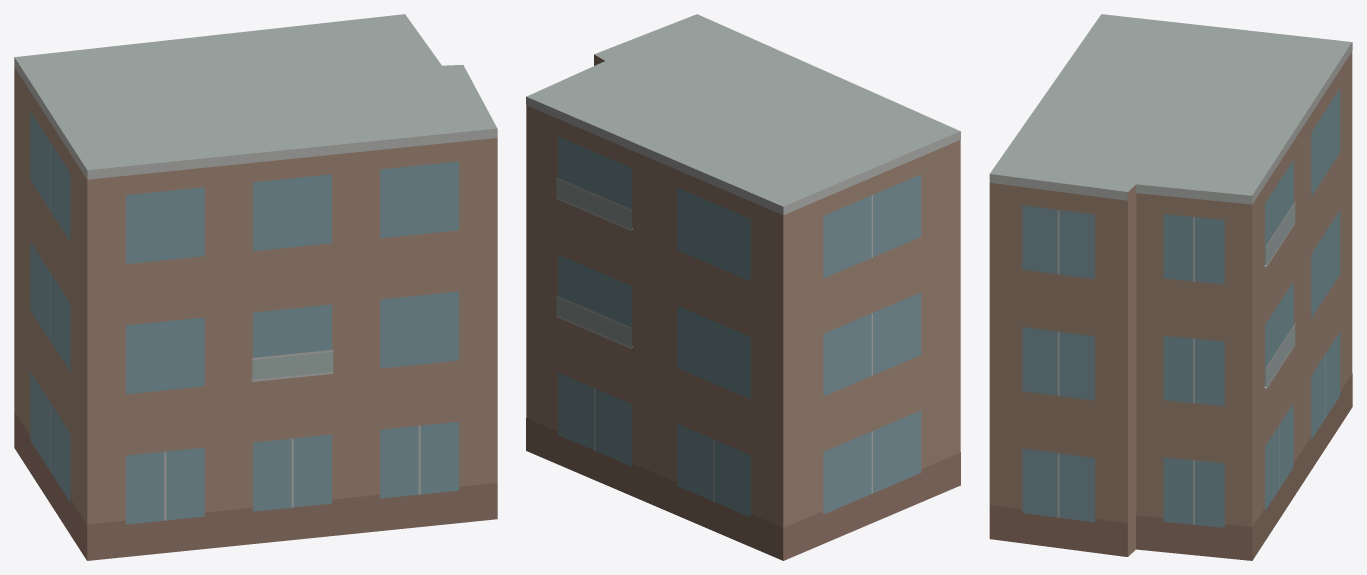
Rendered from survey-upis-32721536.glb.
3 renders of one model, left to right at view 1: azimuth 30°, elevation 25°; view 2: azimuth 150°, elevation 25°; view 3: azimuth 270°, elevation 25°, orthographic. The views are drawn at different scales.
Visible parts, largest first — view 1: survey-upis-32721536.tmp; view 2: survey-upis-32721536.tmp; view 3: survey-upis-32721536.tmp.
Part boxes in pixels (x1,y1,x2,y2): survey-upis-32721536.tmp: (14,14,497,560); survey-upis-32721536.tmp: (526,14,960,560); survey-upis-32721536.tmp: (989,14,1352,560).
Bounding box in the file's own units: 10.9 × 10.2 × 9.2.
